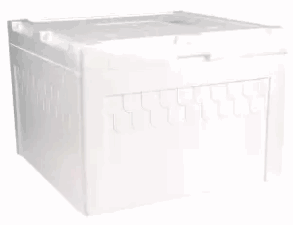FoamBox: (5, 8, 293, 217)
